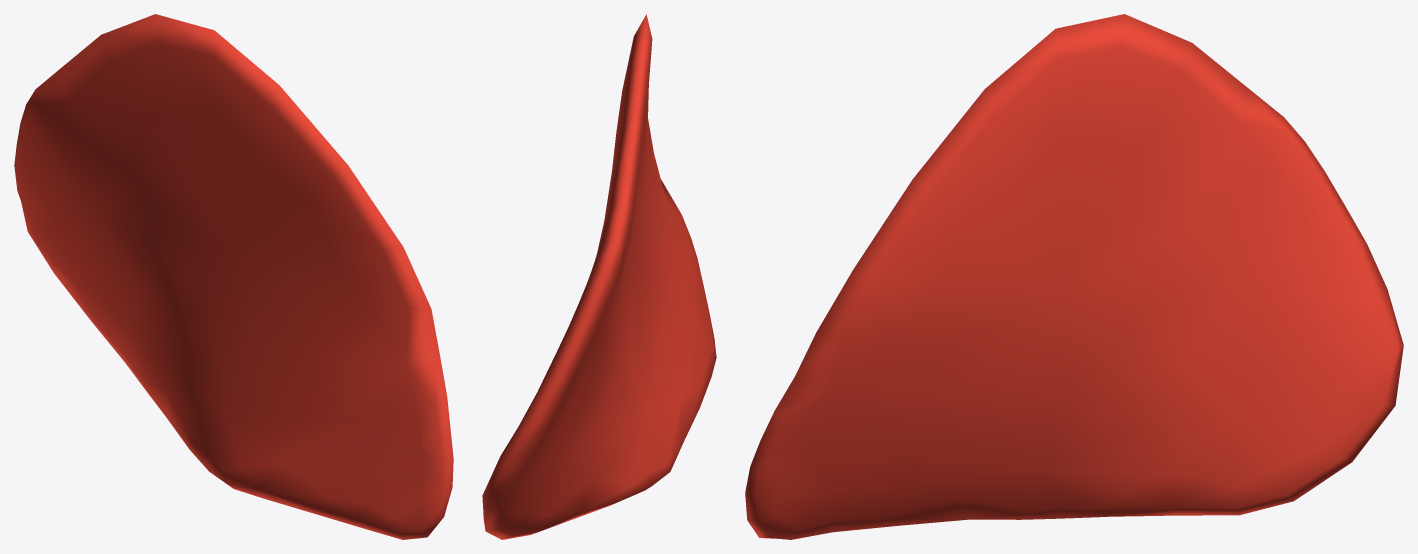
The model's file is Popliteus_groove_left.glb.
The picture shows the model from 3 angles, left to right: view 1: azimuth 30°, elevation 25°; view 2: azimuth 150°, elevation 25°; view 3: azimuth 270°, elevation 25°; orthographic projection. The views are drawn at different scales.
Visible parts, largest first — view 1: Popliteus_muscle_in_the_groove_for_popliteus_muscle.l_Genera; view 2: Popliteus_muscle_in_the_groove_for_popliteus_muscle.l_Genera; view 3: Popliteus_muscle_in_the_groove_for_popliteus_muscle.l_Genera.
Boxes of the visible parts, x1=… form: Popliteus_muscle_in_the_groove_for_popliteus_muscle.l_Genera: x1=14, y1=14, x2=453, y2=539; Popliteus_muscle_in_the_groove_for_popliteus_muscle.l_Genera: x1=482, y1=14, x2=716, y2=539; Popliteus_muscle_in_the_groove_for_popliteus_muscle.l_Genera: x1=745, y1=14, x2=1403, y2=539.
Size of the model in its own units: 0.00408 by 0.00939 by 0.0115.
